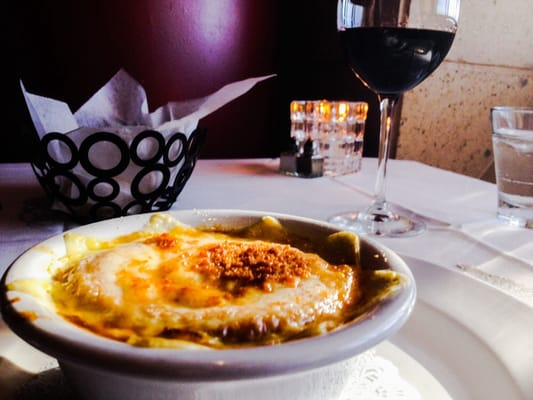sushi: (1, 208, 481, 399)
